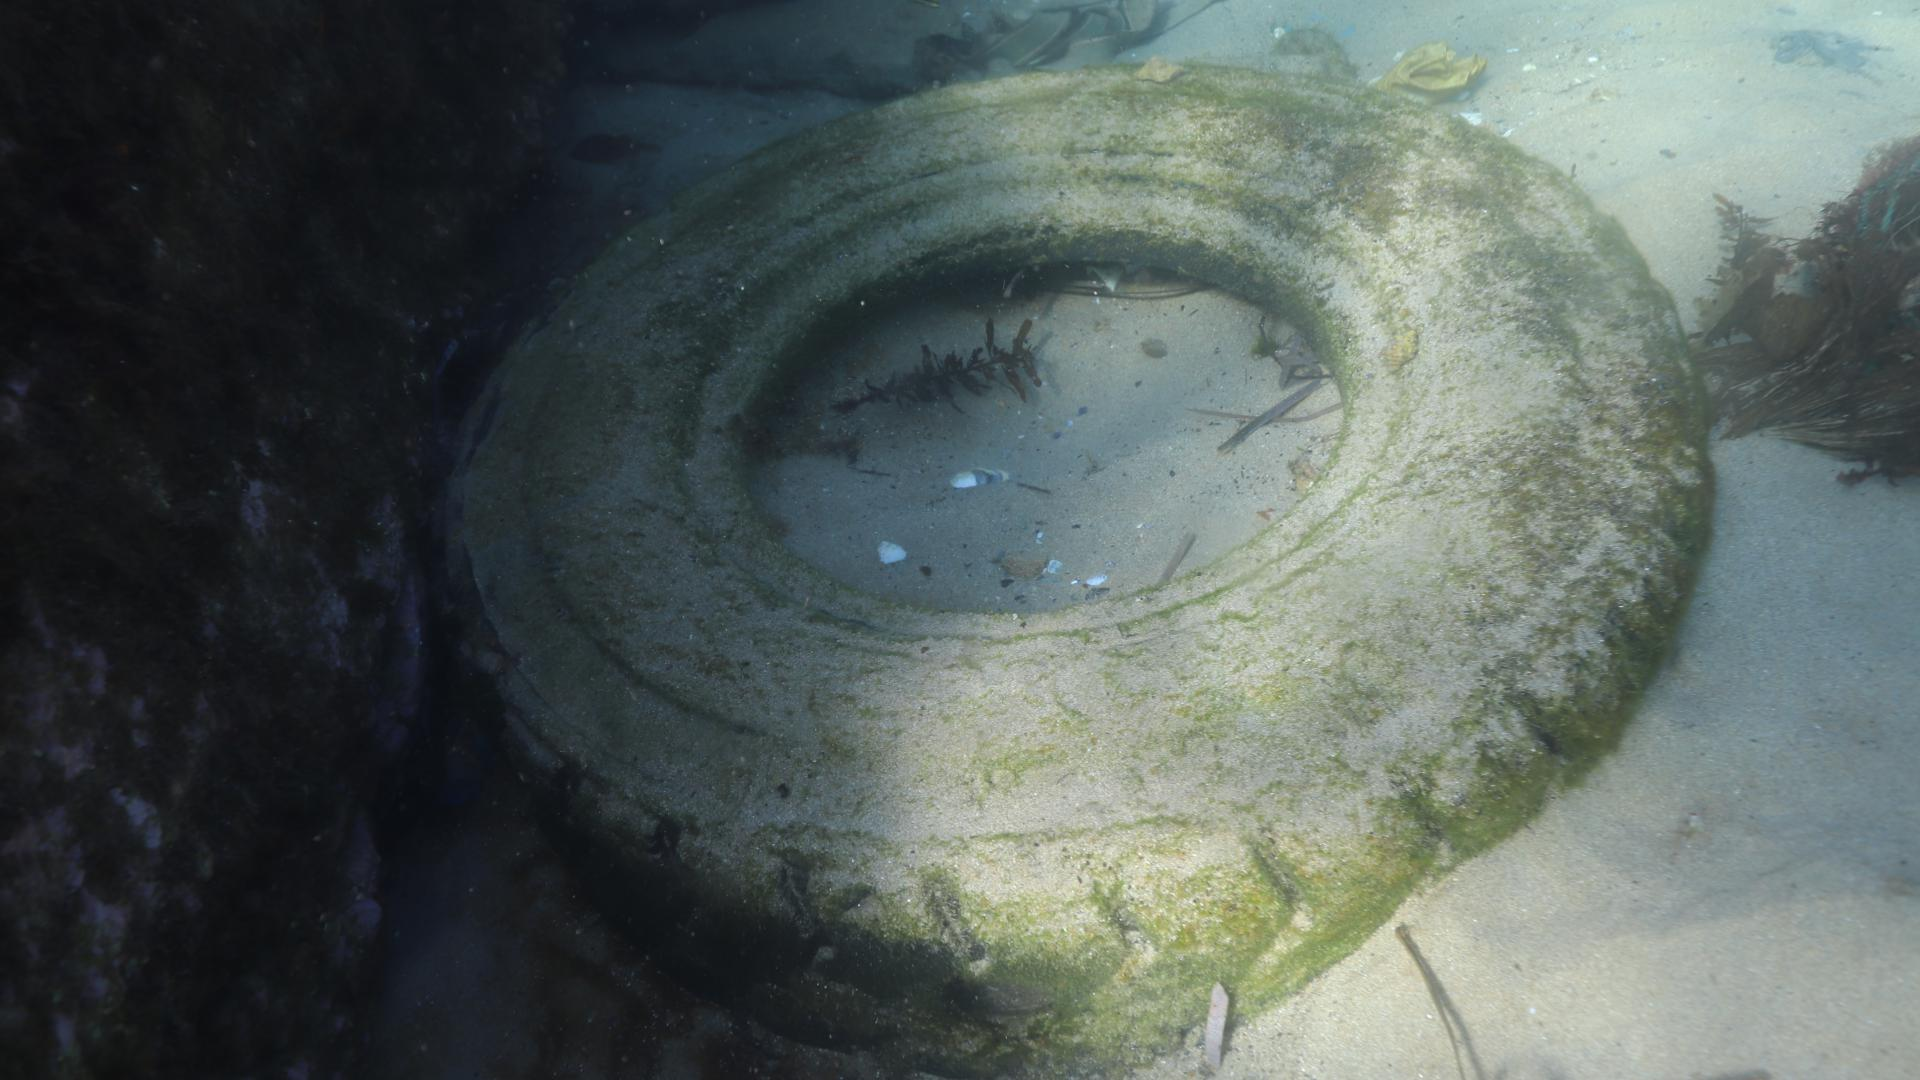tire: (442, 58, 1712, 1080)
